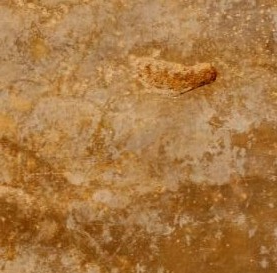Corrosion: (144, 63, 217, 90)
Spalling: (134, 57, 219, 98)
